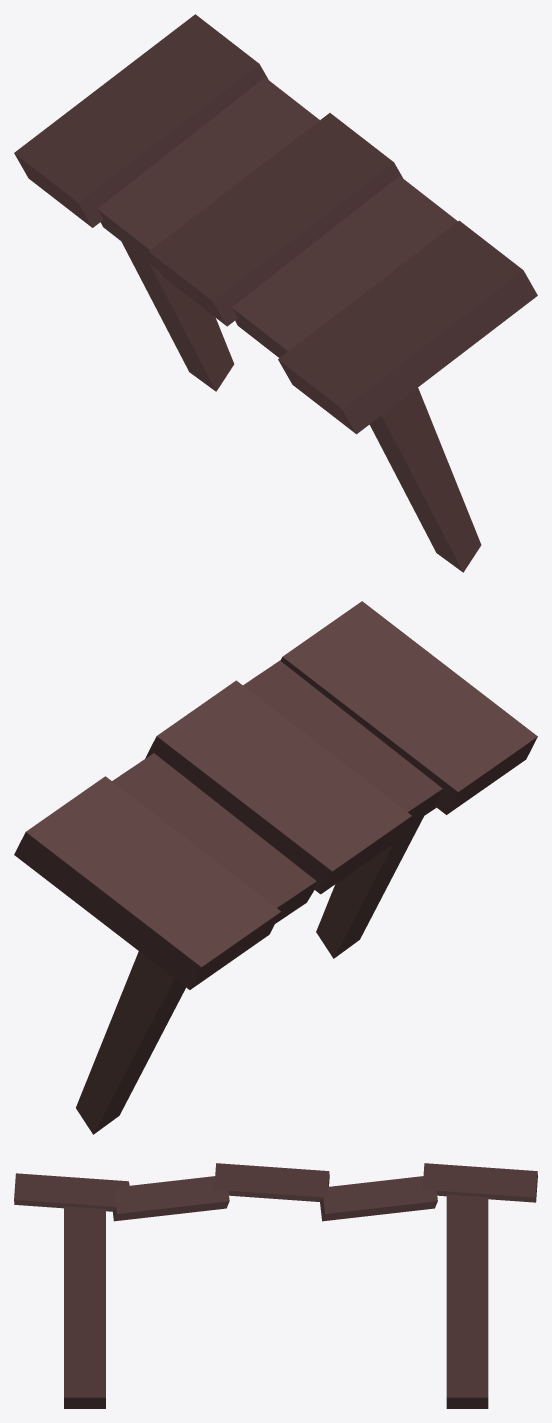
The model's file is DarkRoseWoodDecorationSmallDoorAwning1.fbx.
3 renders of one model, top to bottom at view 1: azimuth 30°, elevation 25°; view 2: azimuth 150°, elevation 25°; view 3: azimuth 270°, elevation 25°, orthographic. The views are drawn at different scales.
Parts seen in each view (by area): view 1: DarkRoseWoodDecorationSmallDoorAwning1; view 2: DarkRoseWoodDecorationSmallDoorAwning1; view 3: DarkRoseWoodDecorationSmallDoorAwning1.
Boxes of the visible parts, left/top/right/bottom form: DarkRoseWoodDecorationSmallDoorAwning1: left=14, top=14, right=537, bottom=572; DarkRoseWoodDecorationSmallDoorAwning1: left=14, top=601, right=537, bottom=1134; DarkRoseWoodDecorationSmallDoorAwning1: left=14, top=1163, right=537, bottom=1408.
Size of the model in its own units: 243 by 371 by 687.
Materials: 1 (1 with a texture image).
